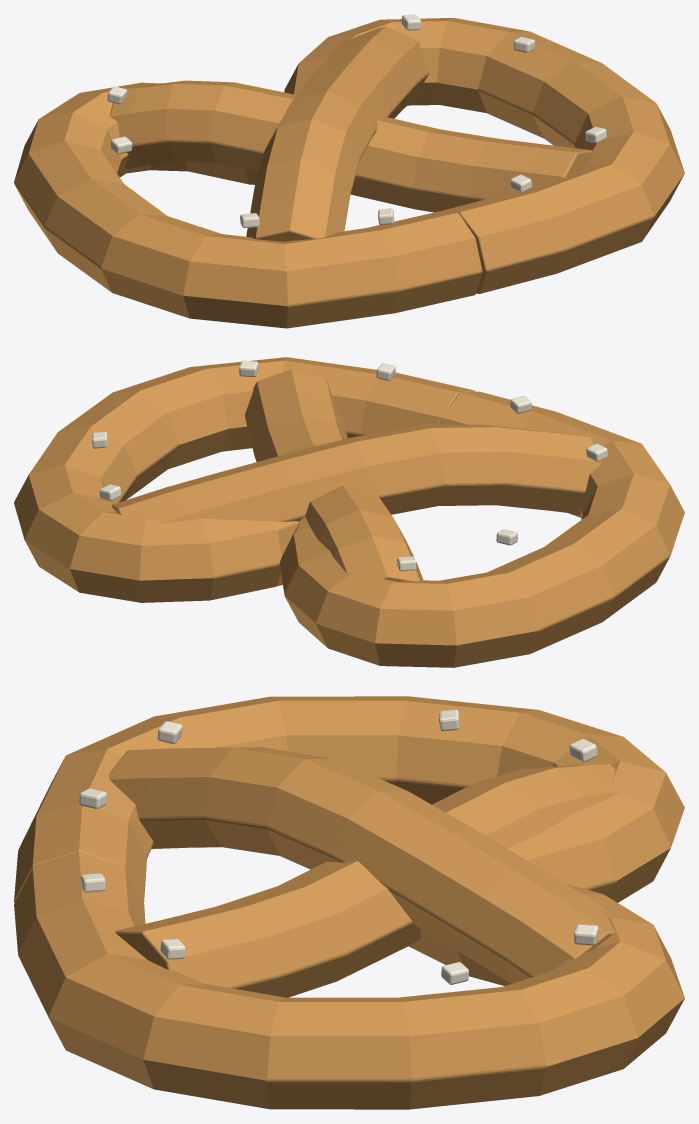
Rendered from pretzel.fbx.
3 views of the same model, one above another, from view 1: azimuth 30°, elevation 25°; view 2: azimuth 150°, elevation 25°; view 3: azimuth 270°, elevation 25° (orthographic). The views are drawn at different scales.
Parts seen in each view (by area): view 1: pretzel; view 2: pretzel; view 3: pretzel.
Part boxes in pixels (box(x1,y1,x2,y2)): pretzel: box(14, 14, 684, 328); pretzel: box(14, 357, 684, 667); pretzel: box(14, 696, 684, 1109).
Bounding box in the file's own units: 29.53 × 6.15 × 23.54.
